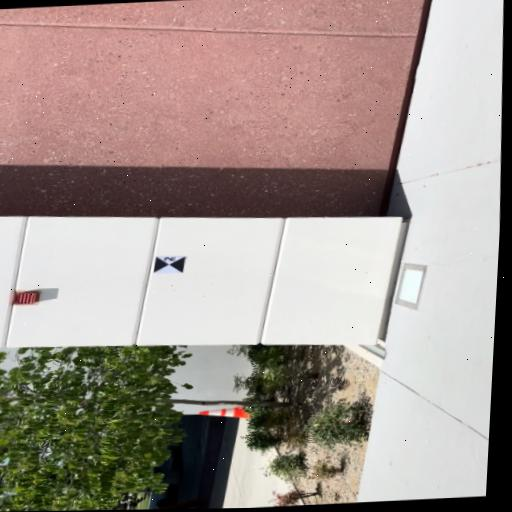target2: (152, 255, 185, 272)
